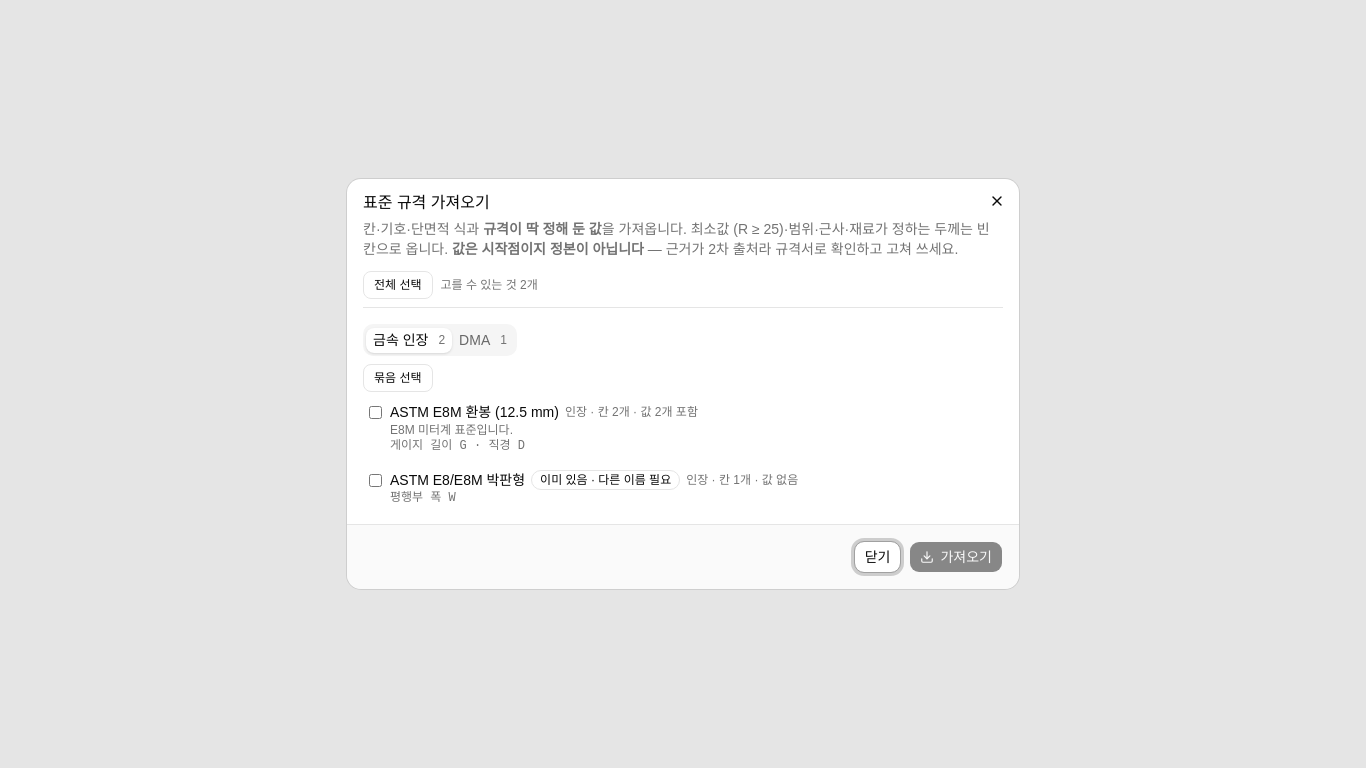
Test case: 표준 규격 가져오기 › 고른 것만 가져온다
The width and height of the screenshot is (1366, 768).
Step 1. Click the checkbox labelled "ASTM E8M 환봉 (12.5 mm)" → coordinates (376, 412), box [369,406,382,419]
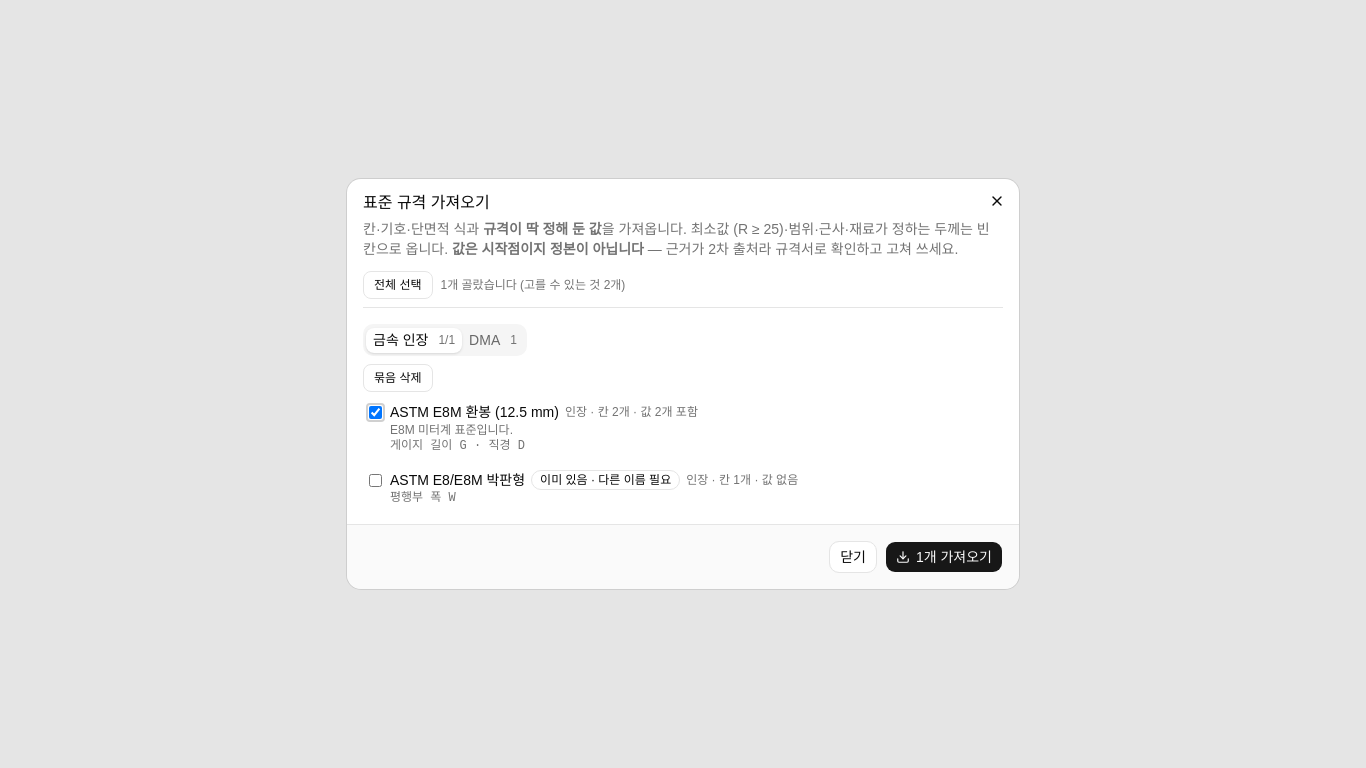
Step 2. Click the button "1개 가져오기" → coordinates (944, 557), box [885,541,1003,573]
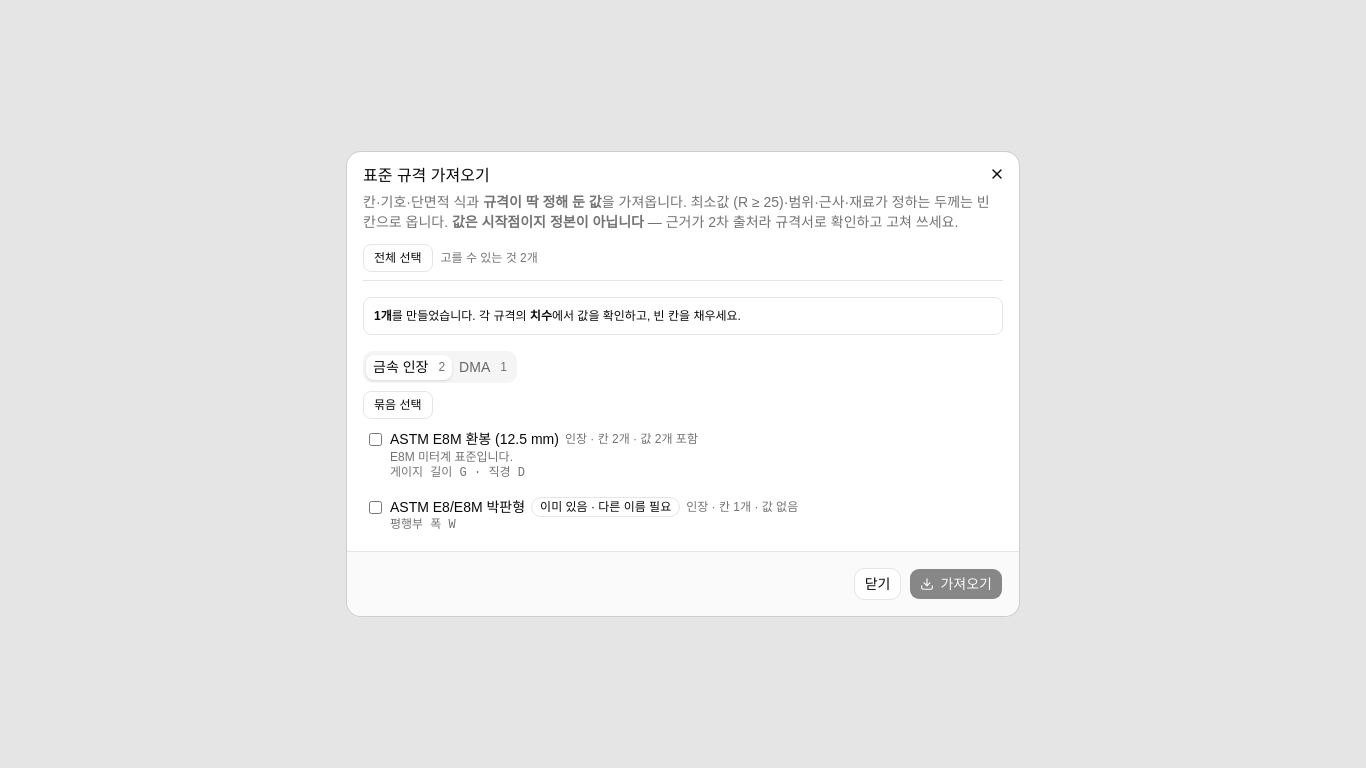
Now the text "값을 확인하고" is shown, box [552,309,741,323]
